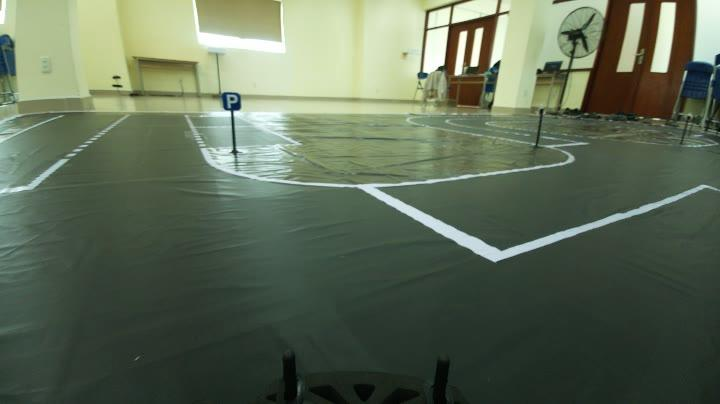parking: (214, 82, 246, 113)
